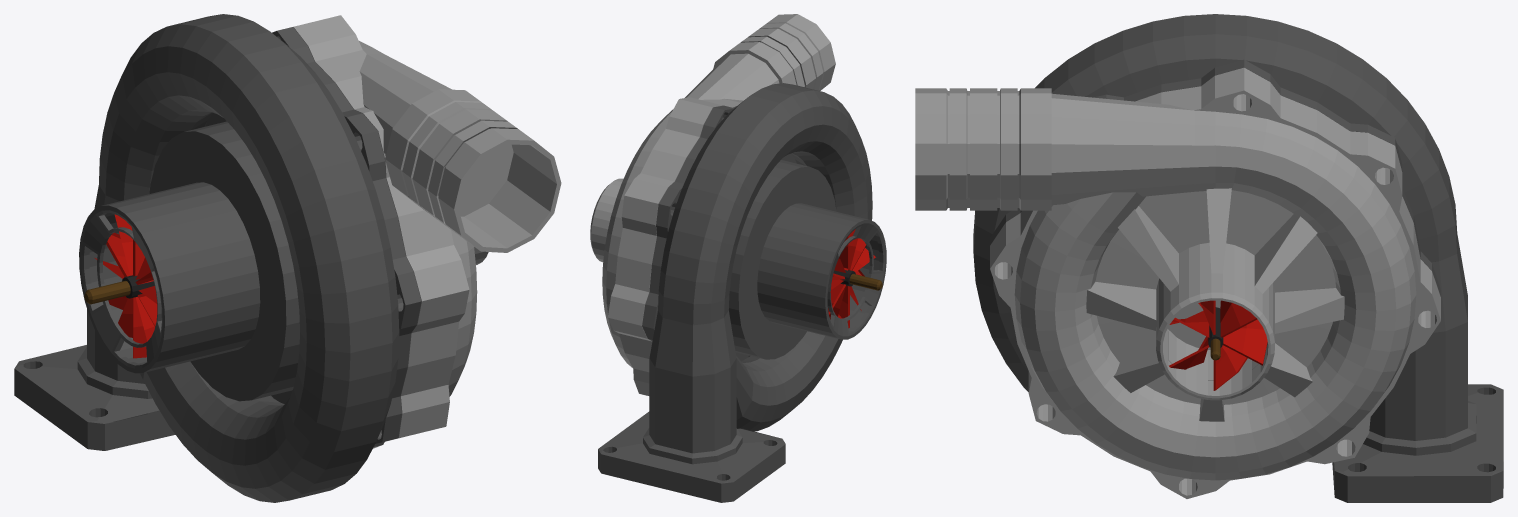
Rendered from turbo.glb.
3 renders of one model, left to right at view 1: azimuth 30°, elevation 25°; view 2: azimuth 150°, elevation 25°; view 3: azimuth 270°, elevation 25°, orthographic. The views are drawn at different scales.
Visible parts, largest first — view 1: Intake turbo, Exhaust of the turbo, Main Body Turbo, Fan outer part of the turbo body.001; view 2: Intake turbo, Main Body Turbo, Exhaust of the turbo, Fan outer part of the turbo body.001; view 3: Exhaust of the turbo, Main Body Turbo, Intake turbo, Fan outer part of the turbo body.
Boxes of the visible parts, <box> form: Intake turbo: <box>14,14,421,502</box>; Exhaust of the turbo: <box>359,41,561,396</box>; Main Body Turbo: <box>293,15,488,448</box>; Fan outer part of the turbo body.001: <box>84,214,157,358</box>; Intake turbo: <box>598,83,886,502</box>; Main Body Turbo: <box>590,97,743,395</box>; Exhaust of the turbo: <box>602,14,835,367</box>; Fan outer part of the turbo body.001: <box>828,229,882,328</box>; Exhaust of the turbo: <box>915,88,1416,480</box>; Main Body Turbo: <box>990,67,1440,498</box>; Intake turbo: <box>973,14,1503,502</box>; Fan outer part of the turbo body: <box>1169,300,1267,390</box>.
Size of the model in its own units: 2.15 by 2.3 by 2.8.
